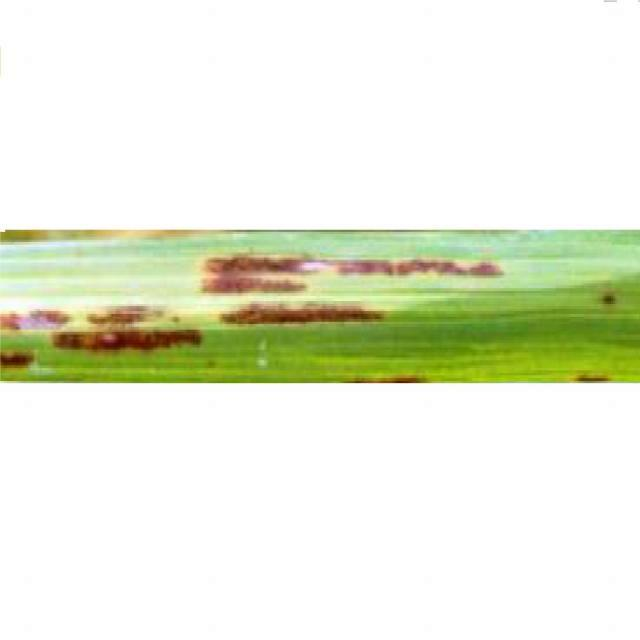Leafsmut: (330, 257, 499, 277), (226, 302, 376, 324), (54, 329, 202, 351), (211, 254, 306, 273), (0, 351, 27, 366), (601, 292, 617, 306)
